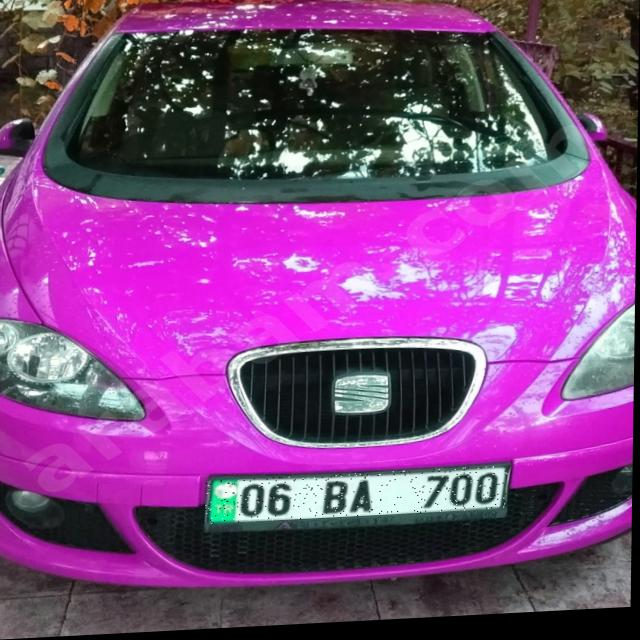license_plate: (207, 471, 509, 526)
